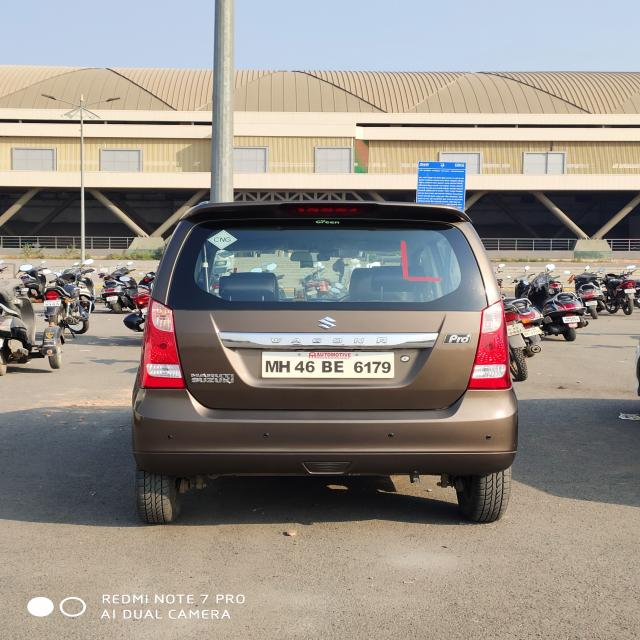Number-Plate: (264, 352, 392, 380)
